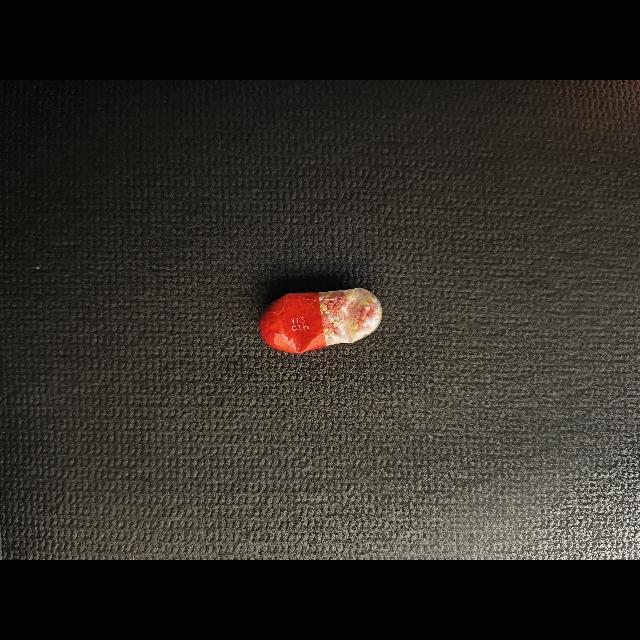Defective Capsule: (258, 288, 383, 354)
